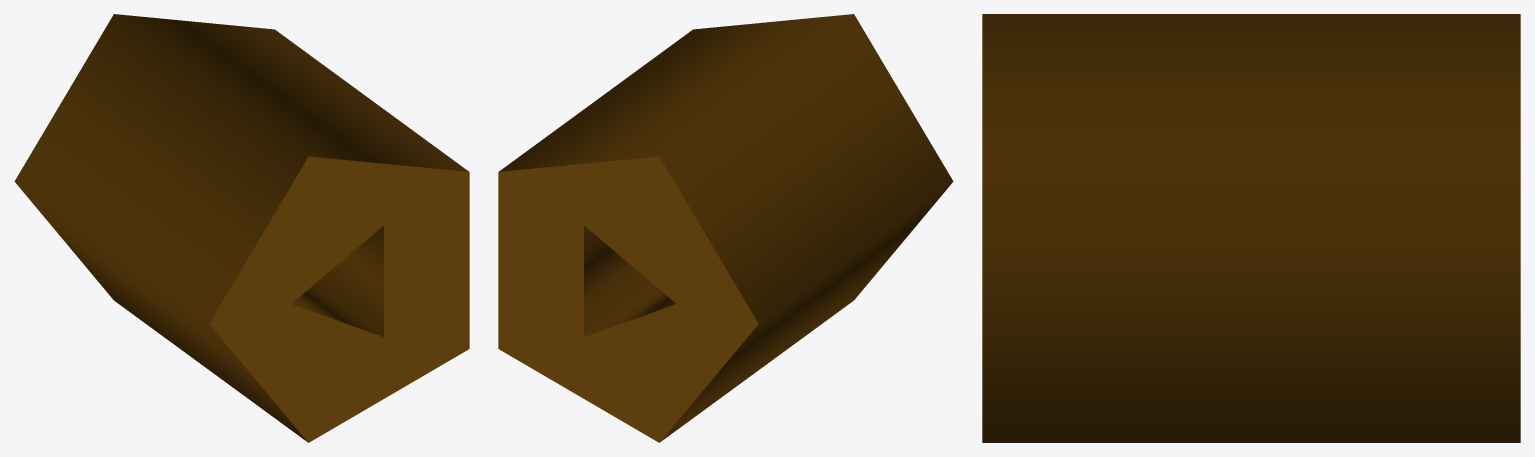
Rendered from Copie de Piece laiton D 1.5_Laiton _X2_00d8_X0_1.5^Copie de ASS pilier 4_Horloge Comtoise Verge - Sonnerie_instance_2.obj.
3 views of the same model, side by side, from view 1: azimuth 30°, elevation 25°; view 2: azimuth 150°, elevation 25°; view 3: azimuth 270°, elevation 25° (orthographic). The views are drawn at different scales.
Visible parts, largest first — view 1: Face_1, Face_2, Face_4; view 2: Face_1, Face_3, Face_4; view 3: Face_1.
Boxes of the visible parts, box(x1,y1,x2,y2) form: Face_1: box(14, 14, 468, 442); Face_2: box(209, 156, 469, 442); Face_4: box(292, 225, 383, 336); Face_1: box(499, 14, 953, 442); Face_3: box(498, 156, 758, 442); Face_4: box(584, 225, 675, 336); Face_1: box(982, 14, 1520, 442).
Bounding box in the file's own units: 0.00317 × 0.00333 × 0.0041.
